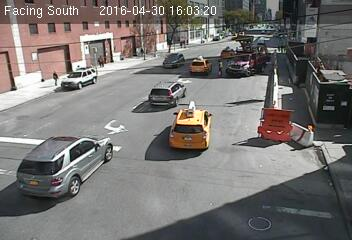neg: (255, 76, 272, 99), (260, 17, 275, 36), (128, 140, 142, 158), (228, 23, 241, 41), (47, 164, 60, 182), (167, 56, 177, 70), (255, 118, 265, 132), (73, 129, 81, 139)
pos: (92, 50, 107, 71), (47, 67, 61, 86), (212, 57, 226, 76), (277, 43, 286, 55), (138, 44, 146, 55)
